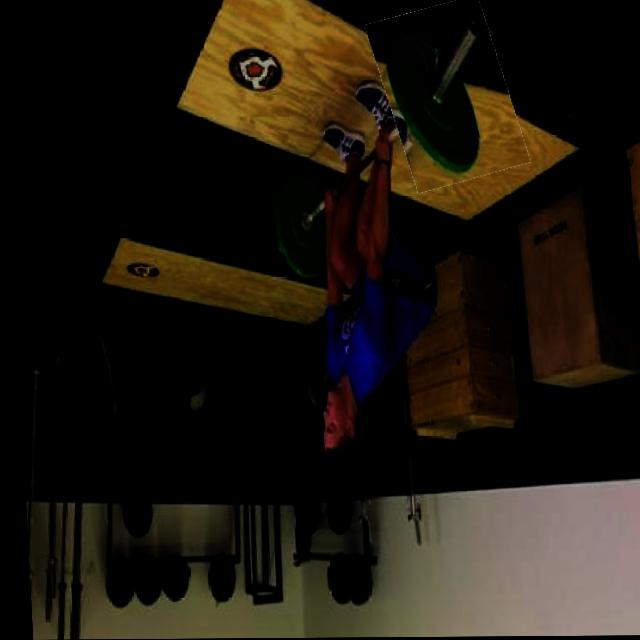barbell: (375, 2, 521, 189)
